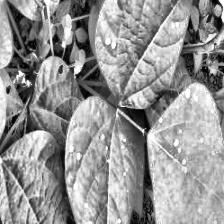Bean Rust: (144, 83, 224, 224), (94, 0, 193, 106), (66, 98, 137, 224), (0, 131, 64, 224)
